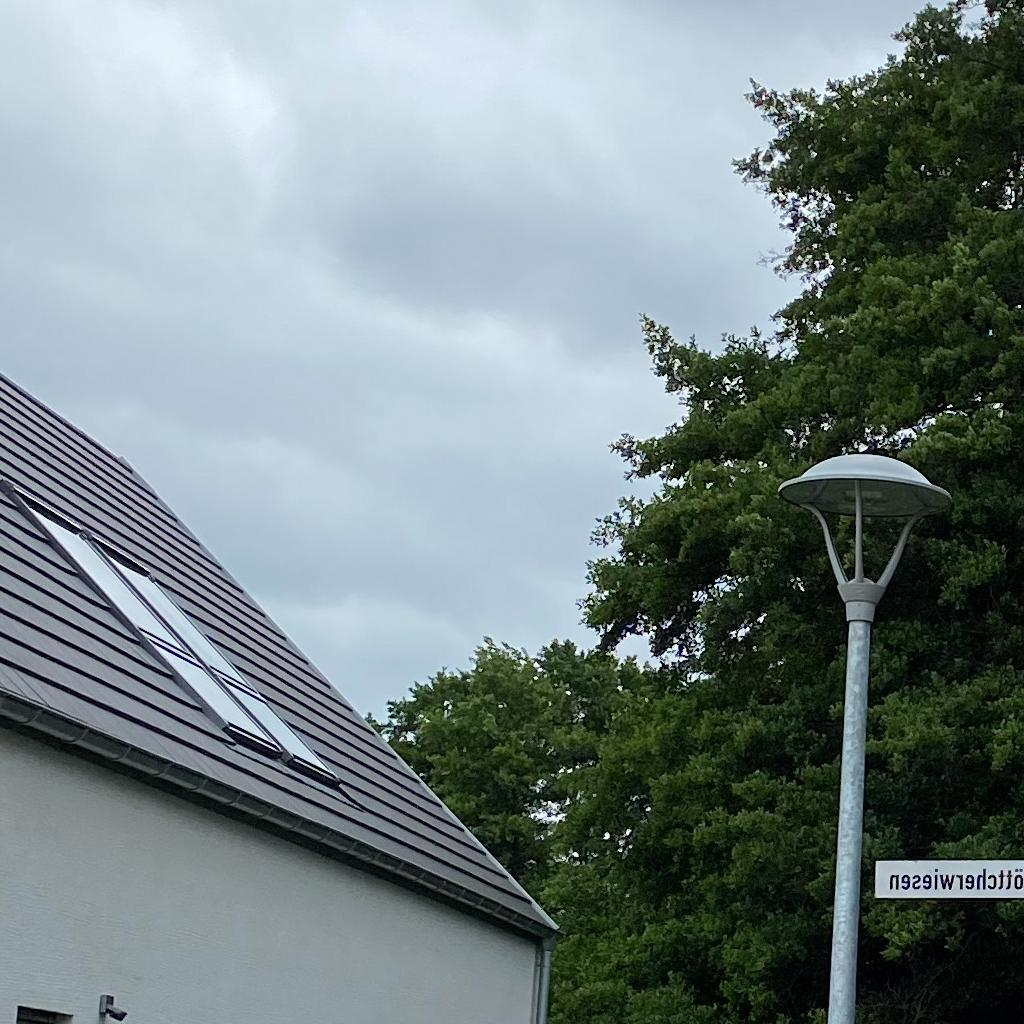tree: (574, 1, 1023, 1023), (364, 636, 688, 881)
